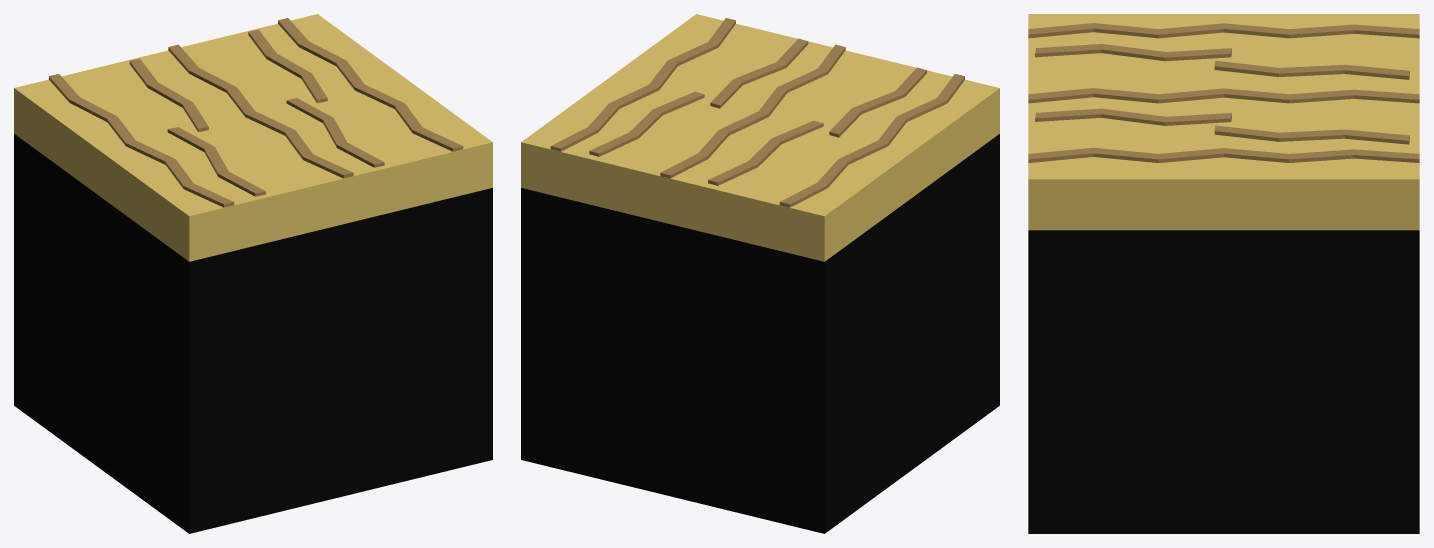
File: Tile-Desert.glb
3 renders of one model, left to right at view 1: azimuth 30°, elevation 25°; view 2: azimuth 150°, elevation 25°; view 3: azimuth 270°, elevation 25°, orthographic. The views are drawn at different scales.
Visible parts, largest first — view 1: Cube; view 2: Cube; view 3: Cube.
Boxes of the visible parts, <box> form: Cube: <box>14,14,492,533</box>; Cube: <box>521,14,999,533</box>; Cube: <box>1028,14,1419,533</box>.
Bounding box in the file's own units: 2 × 2.02 × 2.
